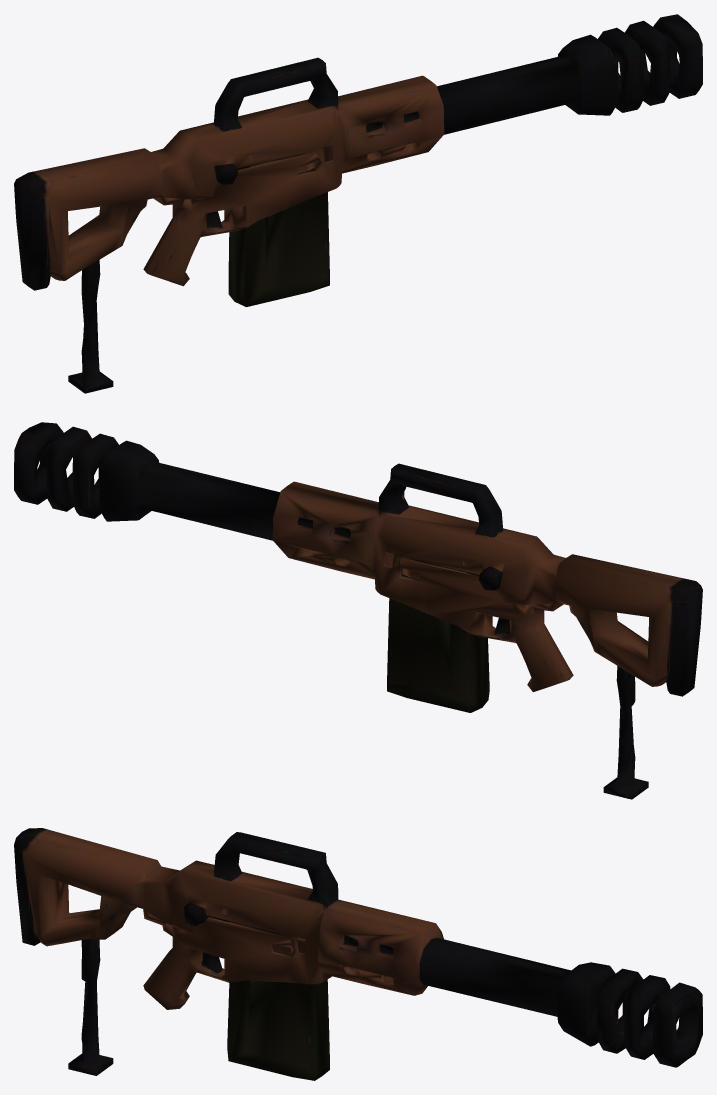
The model's file is gun_sniper_m.glb.
3 views of the same model, one above another, from view 1: azimuth 30°, elevation 25°; view 2: azimuth 150°, elevation 25°; view 3: azimuth 330°, elevation 25° (orthographic).
Parts seen in each view (by area): view 1: world; view 2: world; view 3: world.
Boxes of the visible parts, <box> form: world: <box>14,14,702,393</box>; world: <box>14,422,702,799</box>; world: <box>14,828,702,1080</box>.
Bounding box in the file's own units: 1 × 0.386 × 0.1032.
Materials: 1 (1 with a texture image).
